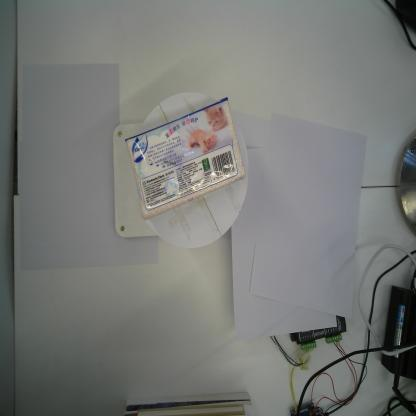Tissue: (126, 97, 247, 222)
